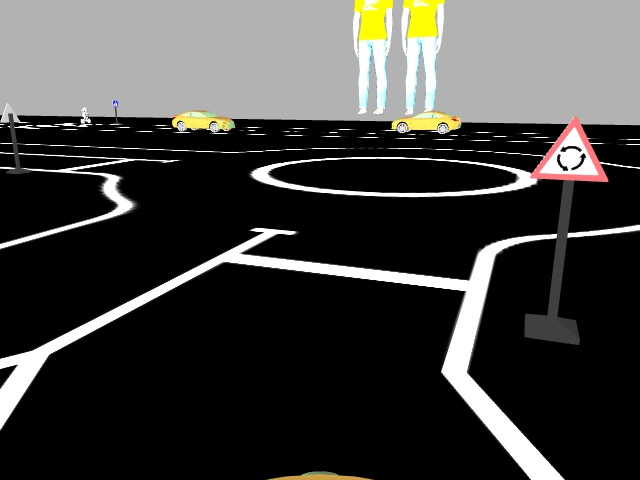Roundabout: (529, 113, 608, 183)
